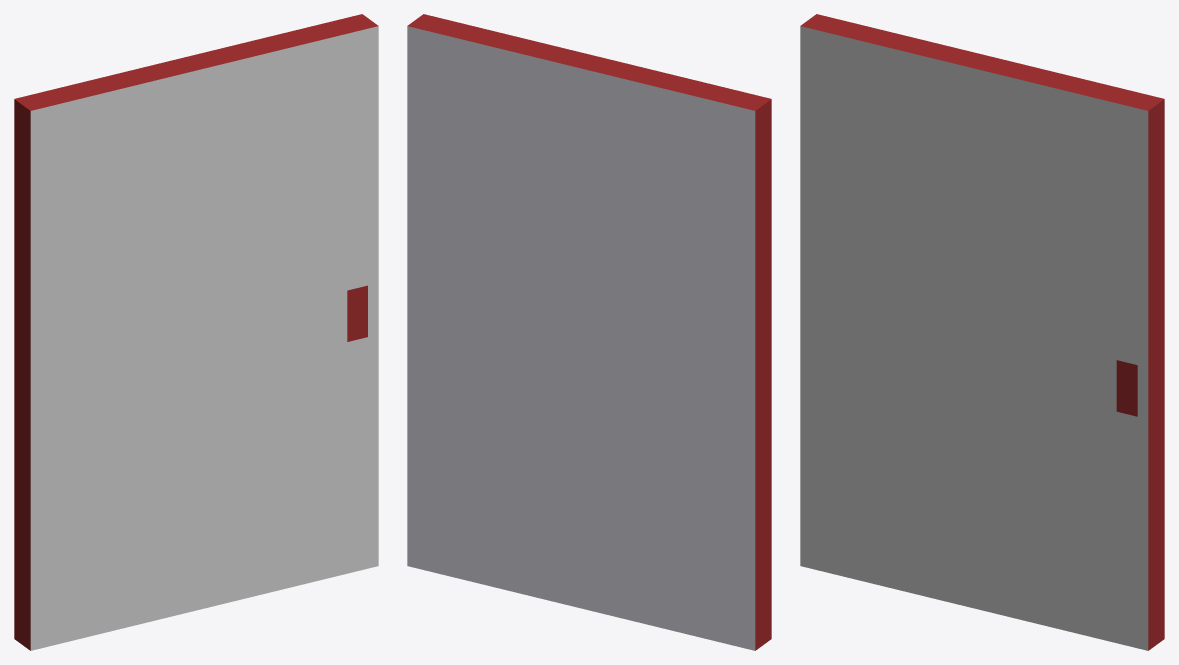
Rendered from Asian_Prop_Building_Modular_Wall_w_Upright_Door_01.FBX.
3 views of the same model, side by side, from view 1: azimuth 30°, elevation 25°; view 2: azimuth 150°, elevation 25°; view 3: azimuth 330°, elevation 25° (orthographic).
Parts seen in each view (by area): view 1: Asian_Prop_Building_Modular_Wall_w_Upright_Door_01; view 2: Asian_Prop_Building_Modular_Wall_w_Upright_Door_01; view 3: Asian_Prop_Building_Modular_Wall_w_Upright_Door_01.
Part boxes in pixels (left/top/right/bottom): Asian_Prop_Building_Modular_Wall_w_Upright_Door_01: left=14, top=14, right=378, bottom=650; Asian_Prop_Building_Modular_Wall_w_Upright_Door_01: left=407, top=14, right=771, bottom=650; Asian_Prop_Building_Modular_Wall_w_Upright_Door_01: left=800, top=14, right=1164, bottom=650.
Bounding box in the file's own units: 2162 × 3204 × 177.
